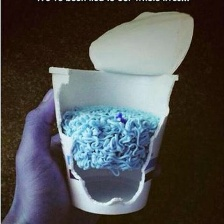paper_cup: (42, 6, 199, 220)
